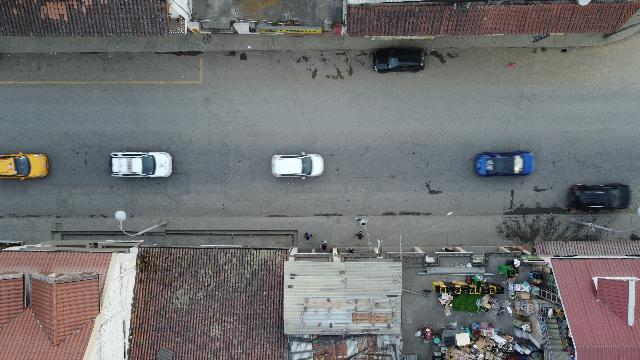Vehiculo: (568, 182, 630, 209), (110, 152, 172, 178), (475, 152, 535, 176), (373, 47, 425, 72), (0, 153, 48, 180), (272, 154, 324, 178)
